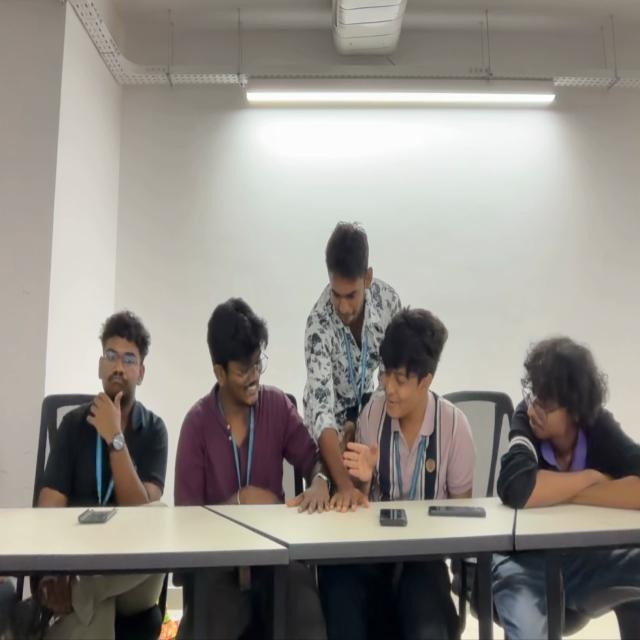Isolated: (501, 334, 640, 508), (41, 313, 162, 498)
socializing: (178, 223, 474, 500)
